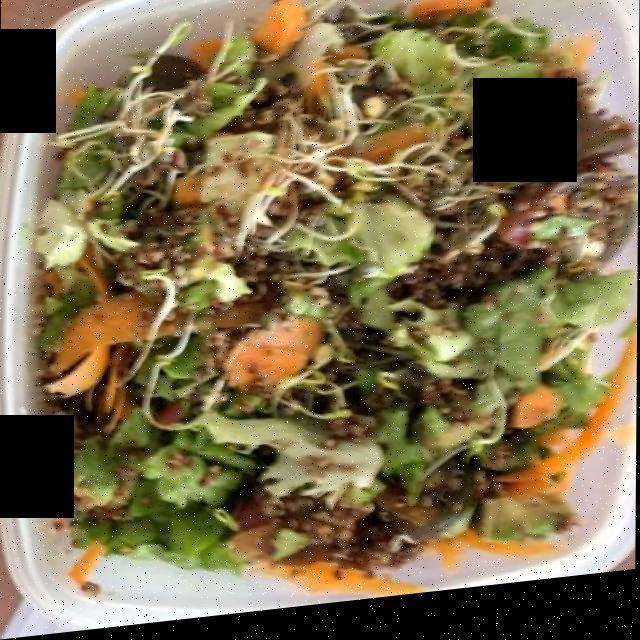quinoa: (112, 191, 626, 578)
salad: (46, 13, 602, 567)
